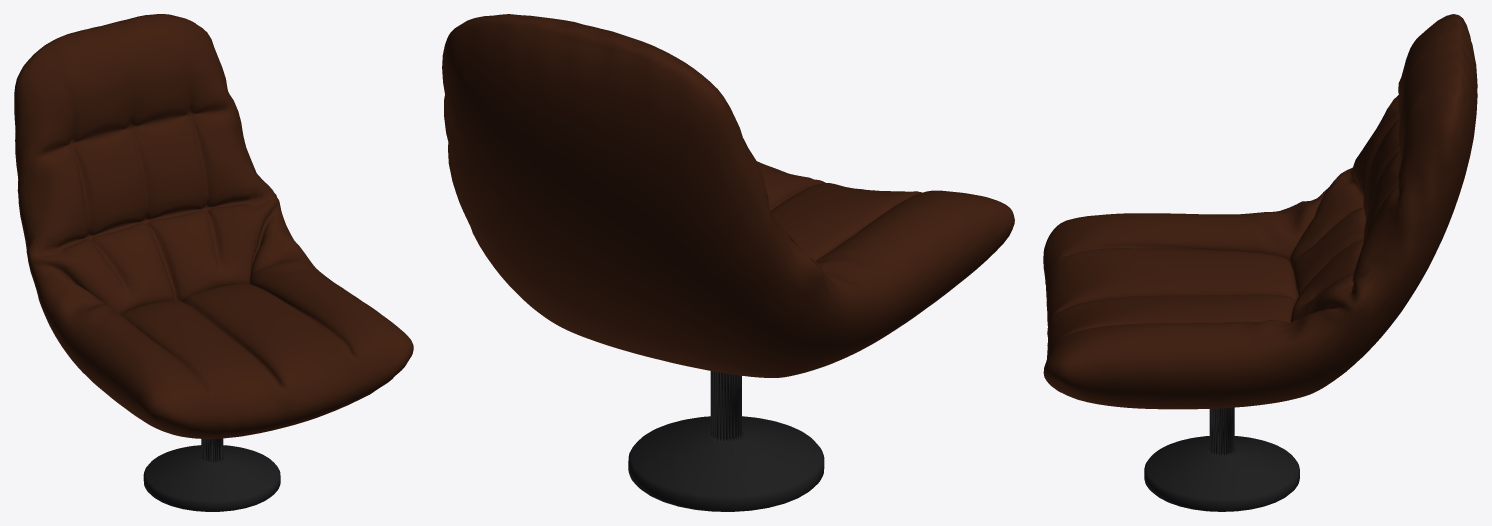
Rendered from teachers chair.fbx.
3 views of the same model, side by side, from view 1: azimuth 30°, elevation 25°; view 2: azimuth 150°, elevation 25°; view 3: azimuth 270°, elevation 25° (orthographic). The views are drawn at different scales.
Parts seen in each view (by area): view 1: Cube, Cylinder; view 2: Cube, Cylinder; view 3: Cube, Cylinder.
Boxes of the visible parts, x1=… form: Cube: x1=14, y1=14, x2=413, y2=438; Cylinder: x1=143, y1=438, x2=280, y2=511; Cube: x1=442, y1=14, x2=1014, y2=377; Cylinder: x1=628, y1=371, x2=824, y2=511; Cube: x1=1043, y1=14, x2=1477, y2=409; Cylinder: x1=1144, y1=407, x2=1299, y2=511.
Size of the model in its own units: 206 by 284 by 256.
